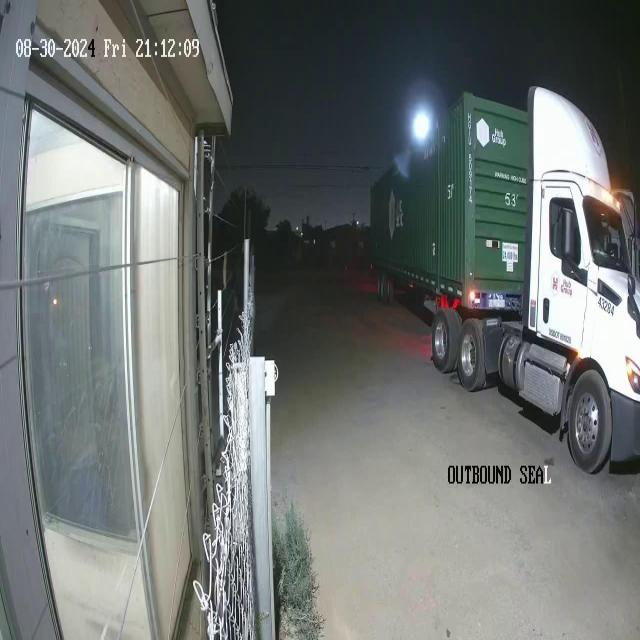TRUCK_IN: (369, 84, 639, 475)
